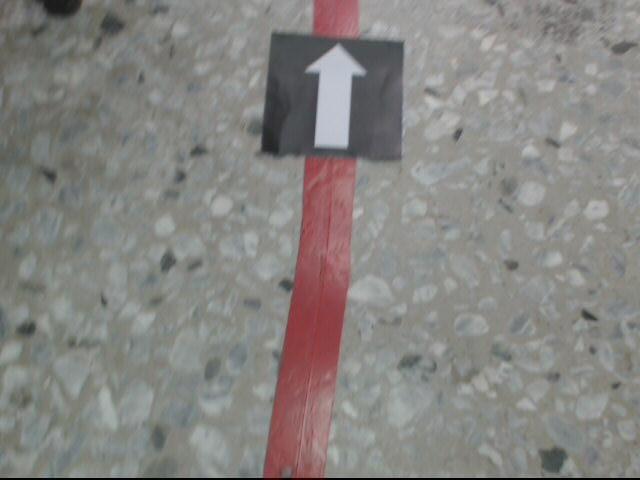straight: (261, 30, 406, 158)
